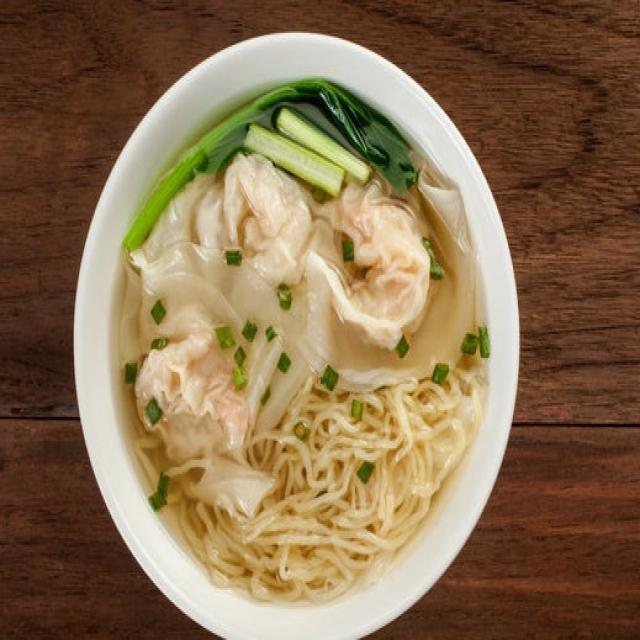Carbohydrate: (121, 344, 490, 601)
Noodle: (74, 27, 525, 640)
Protein: (122, 154, 478, 522)
Vegetable: (122, 77, 414, 250)
